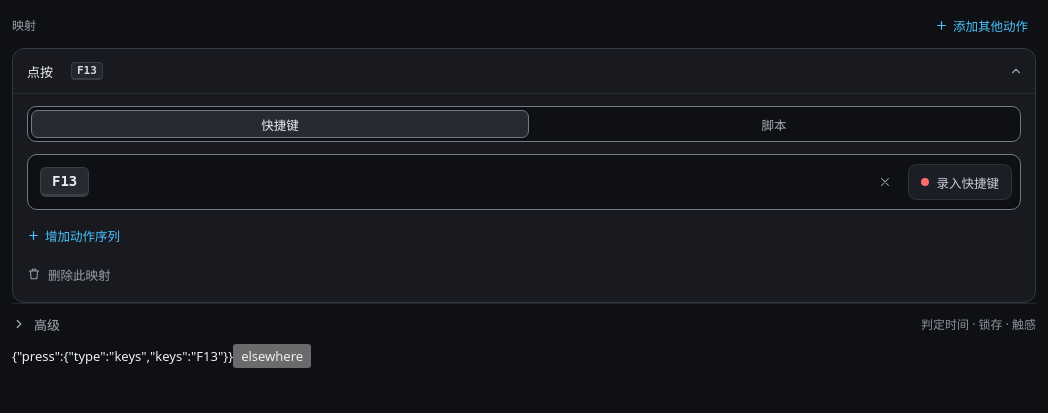
Test: stops capture when focus leaves the shortcut field
The width and height of the screenshot is (1048, 413).
Click the button "录入快捷键": (960, 182) [908,164,1012,200]
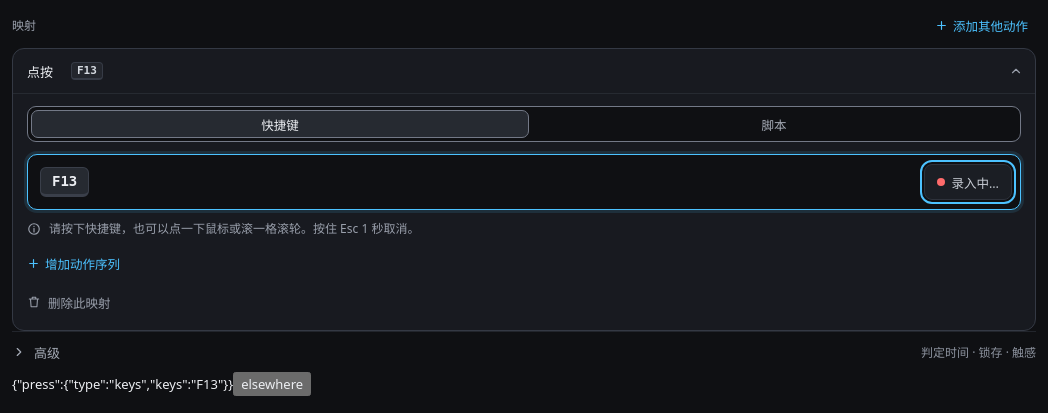
// Focus moving inside the field keeps capturing.
Leave the button "录入中…", box [924,164,1012,200]
Result: the button "录入中…" is shown
Leave the button "录入中…", box [924,164,1012,200]
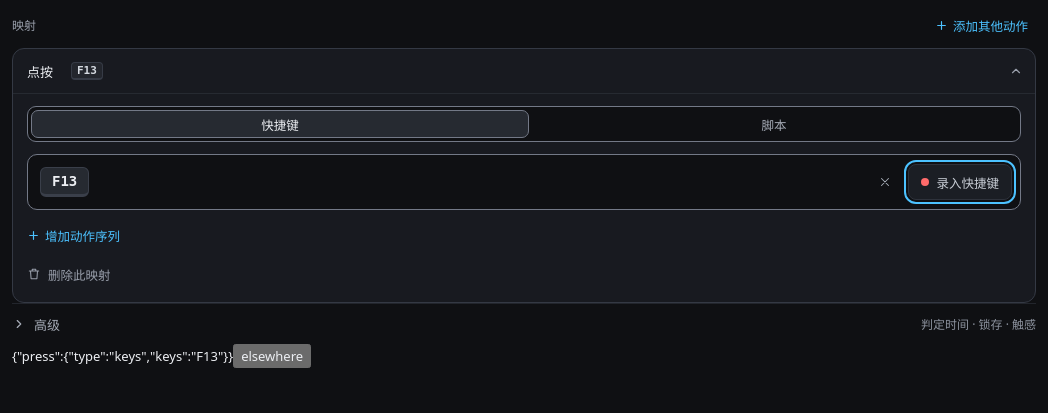
Result: the button "录入快捷键" is shown at [908,164,1012,200]
